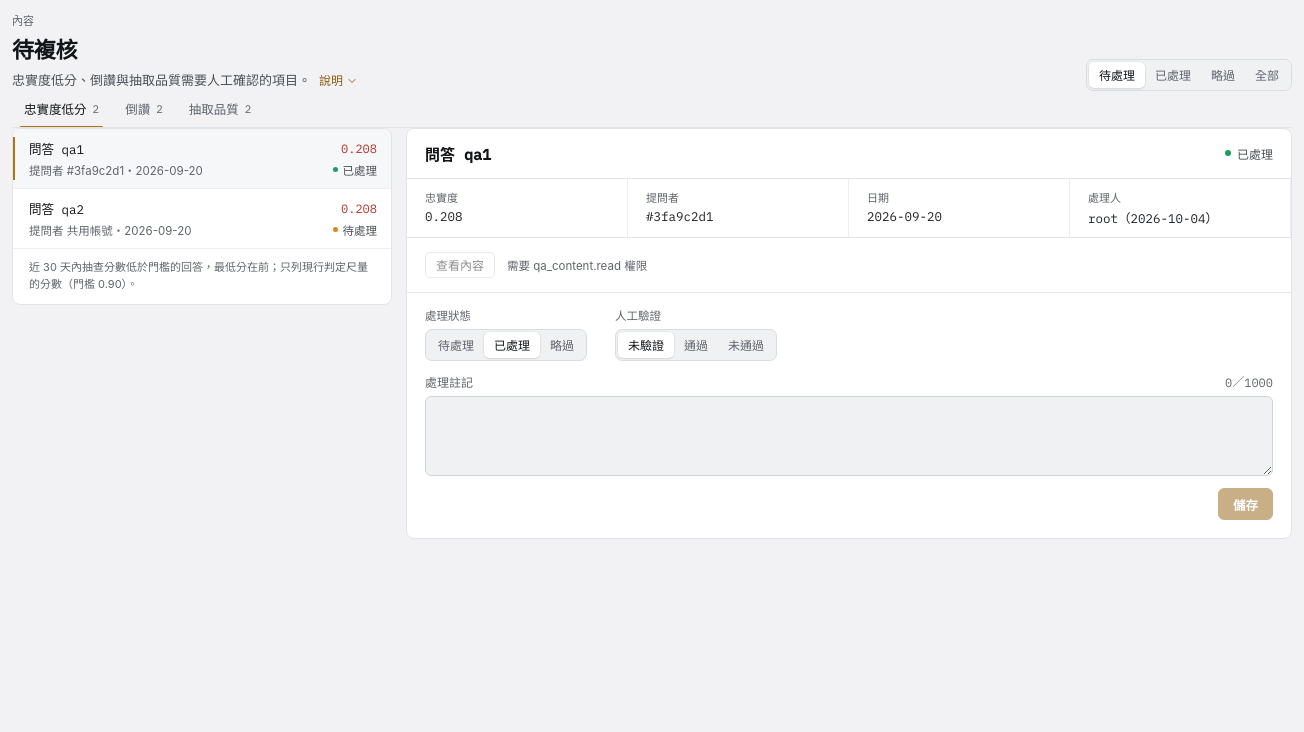
Test: 問答顯示提問者代號與處理人；共用帳號時期的舊列標「共用帳號」、沒處理過不印處理人
This screenshot has width=1304, height=732.
Expected: the text "提問者 #3fa9c2d1・2026-09-20" is shown, 29,164 -> 203,178
Expected: the text "提問者 共用帳號・2026-09-20" is shown, 29,224 -> 192,238
What coordinates should you click on to do the following:
click the text "問答 qa2"
I would click on:
 (56, 209)
Its box is 29,201 -> 84,217.
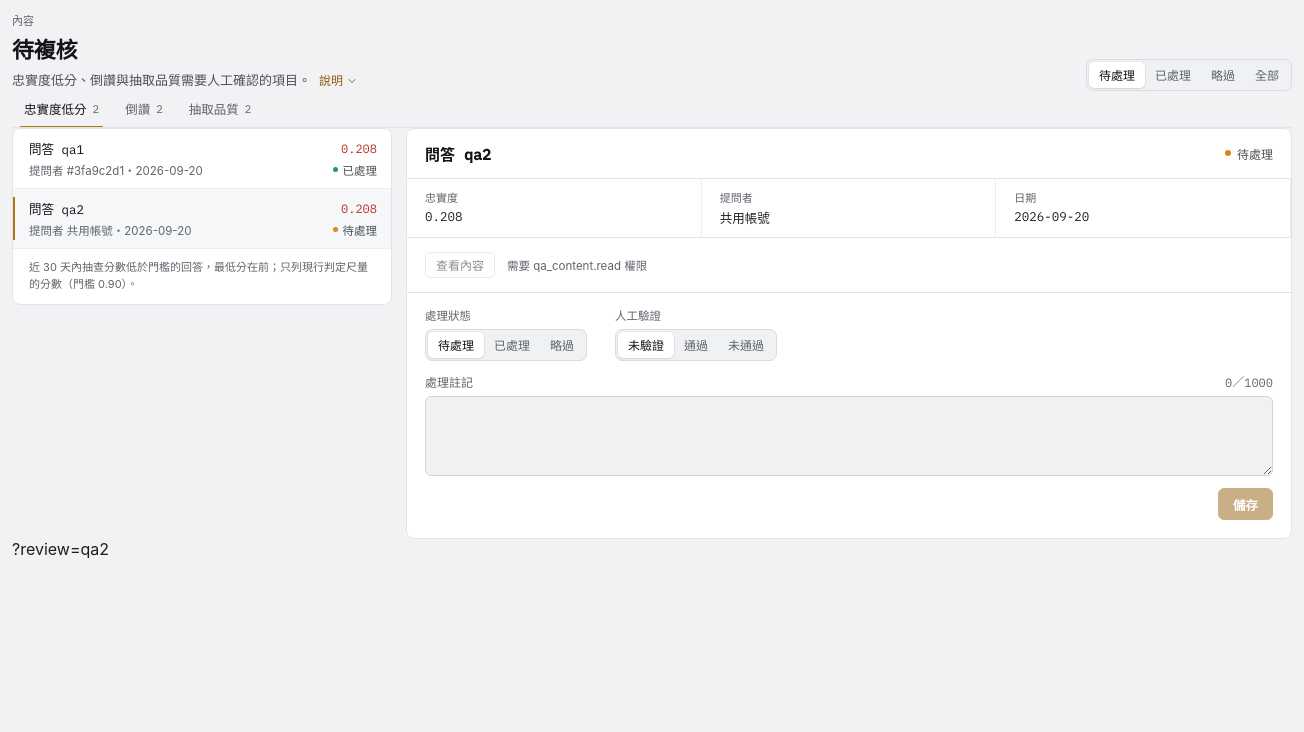
Expected: the text "共用帳號" is shown, 720,210 -> 770,226
Expected: the text "處理人" is gone
